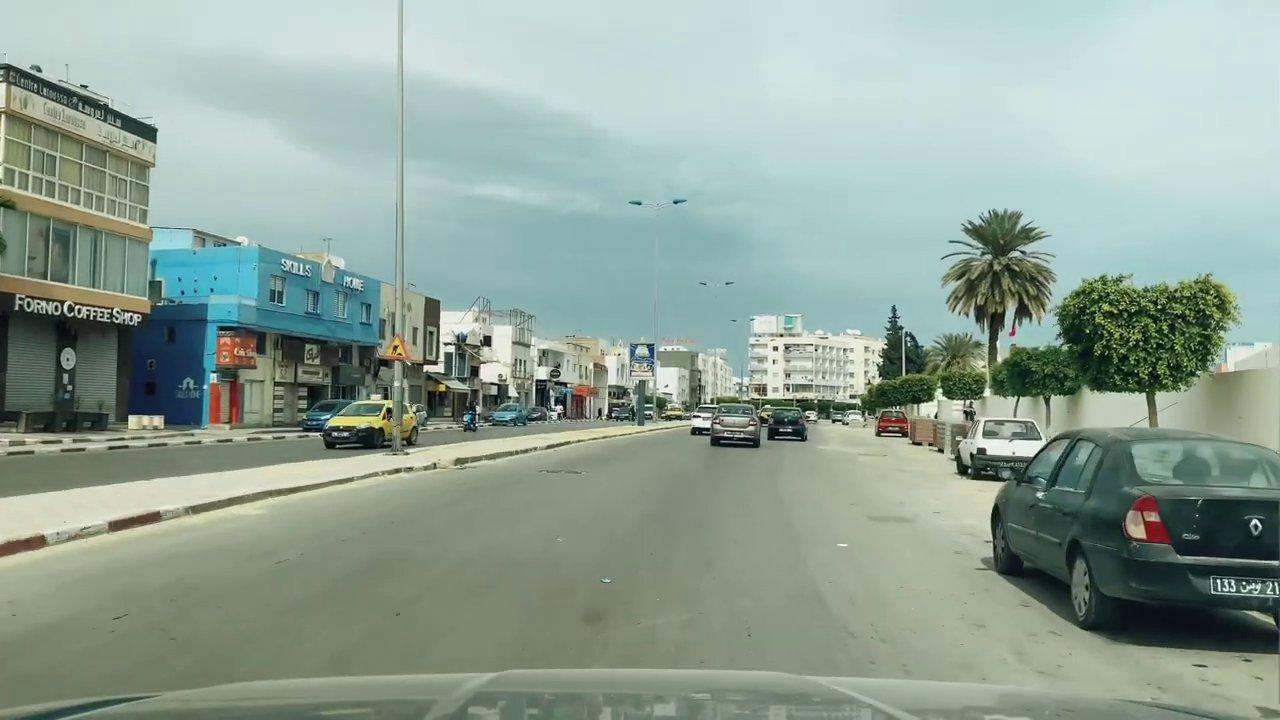road works: (382, 335, 413, 363)
